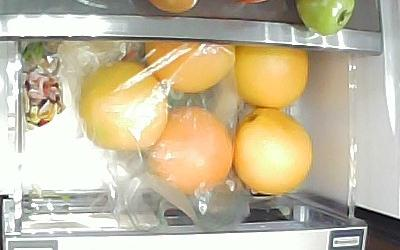grapefruit: (233, 106, 313, 193), (235, 45, 311, 110)
grapefruit_vinyl: (78, 63, 167, 151), (150, 107, 232, 196), (145, 42, 235, 95)
